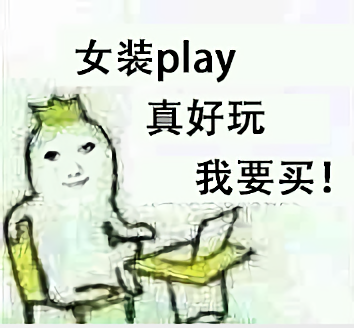dragon: (42, 140, 97, 189)
